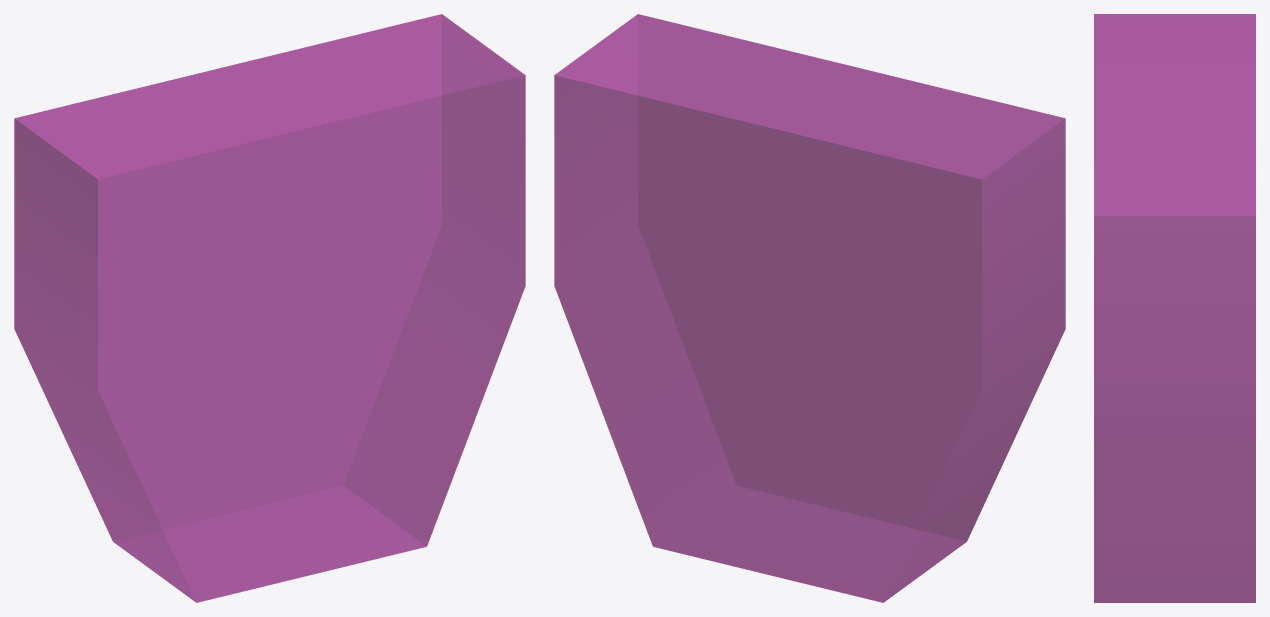
The model's file is SM_Prop_Crane_01_Cable_01_Collision.fbx.
The picture shows the model from 3 angles, left to right: view 1: azimuth 30°, elevation 25°; view 2: azimuth 150°, elevation 25°; view 3: azimuth 270°, elevation 25°; orthographic projection. The views are drawn at different scales.
Visible parts, largest first — view 1: SM_Prop_Crane_01_Cable_01_Collision; view 2: SM_Prop_Crane_01_Cable_01_Collision; view 3: SM_Prop_Crane_01_Cable_01_Collision.
Boxes of the visible parts, x1,y1,x2,y2 form: SM_Prop_Crane_01_Cable_01_Collision: (14, 14, 525, 602); SM_Prop_Crane_01_Cable_01_Collision: (554, 14, 1065, 602); SM_Prop_Crane_01_Cable_01_Collision: (1094, 14, 1255, 602).
Size of the model in its own units: 150 by 150 by 50.67.
